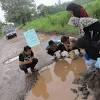Pothole: (20, 53, 100, 100), (3, 52, 29, 64)
